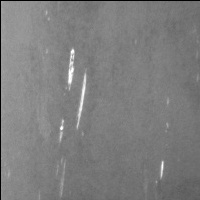scratches: (58, 47, 90, 143), (153, 157, 169, 186)
